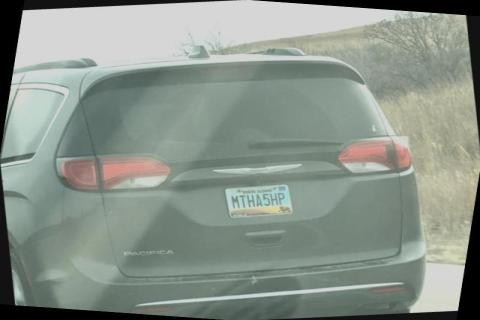LicensePlate: (222, 183, 292, 216)
